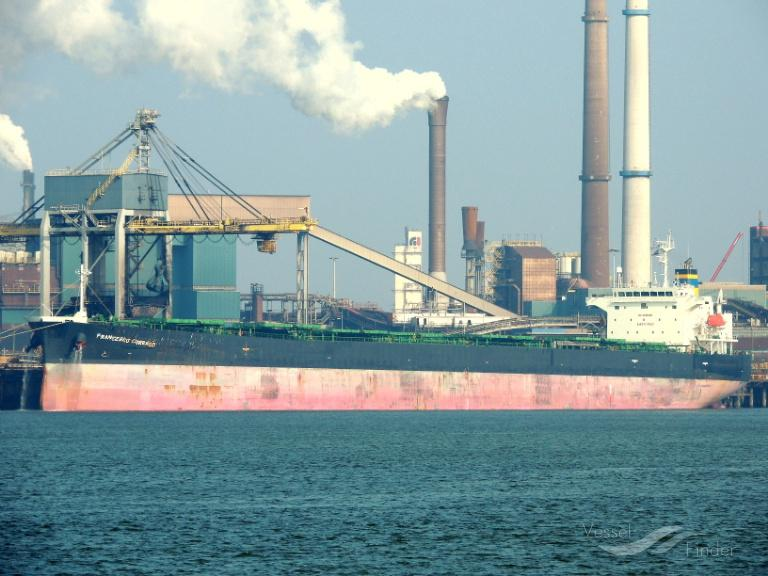OCR: (95, 329, 162, 350)
